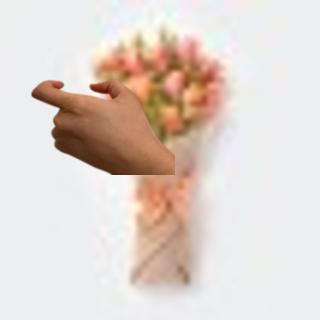HATE: (29, 73, 162, 173)
